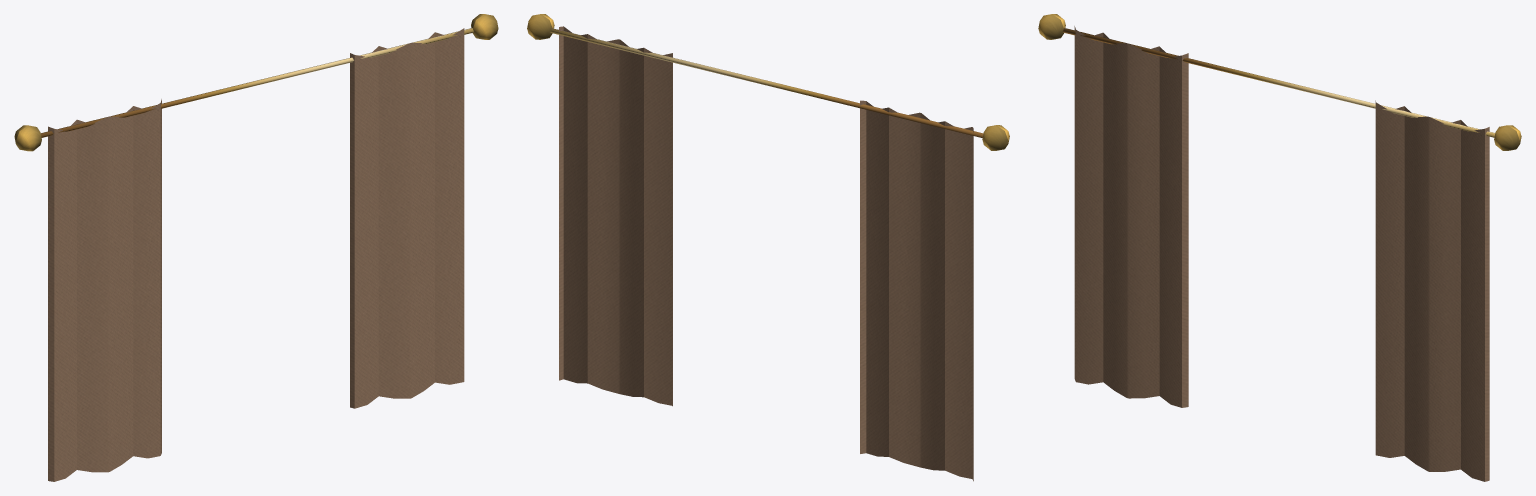
File: Straight_Curtains_16.FBX
3 renders of one model, left to right at view 1: azimuth 30°, elevation 25°; view 2: azimuth 150°, elevation 25°; view 3: azimuth 330°, elevation 25°, orthographic.
Parts seen in each view (by area): view 1: Straight_Curtain; view 2: Straight_Curtain; view 3: Straight_Curtain.
Part boxes in pixels (left/top/right/bottom): Straight_Curtain: left=14, top=14, right=498, bottom=481; Straight_Curtain: left=527, top=14, right=1009, bottom=481; Straight_Curtain: left=1038, top=14, right=1521, bottom=481.
Size of the model in its own units: 582 by 421 by 29.96.
